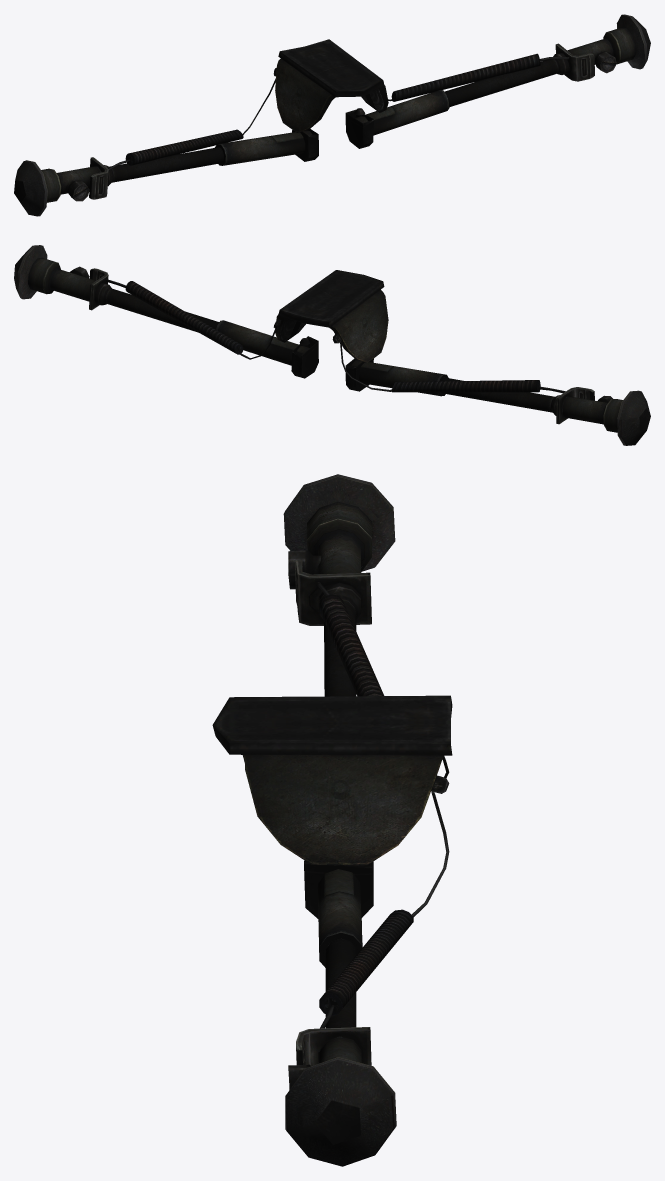
Rendered from BIPOD.FBX.
3 views of the same model, one above another, from view 1: azimuth 30°, elevation 25°; view 2: azimuth 150°, elevation 25°; view 3: azimuth 270°, elevation 25° (orthographic). The views are drawn at different scales.
Parts seen in each view (by area): view 1: Mesh_0021; view 2: Mesh_0021; view 3: Mesh_0021.
Part boxes in pixels (bbox=[...]): Mesh_0021: bbox=[14, 14, 650, 216]; Mesh_0021: bbox=[14, 245, 650, 445]; Mesh_0021: bbox=[212, 474, 452, 1166].
Size of the model in its own units: 45.63 by 5.95 by 7.57.
